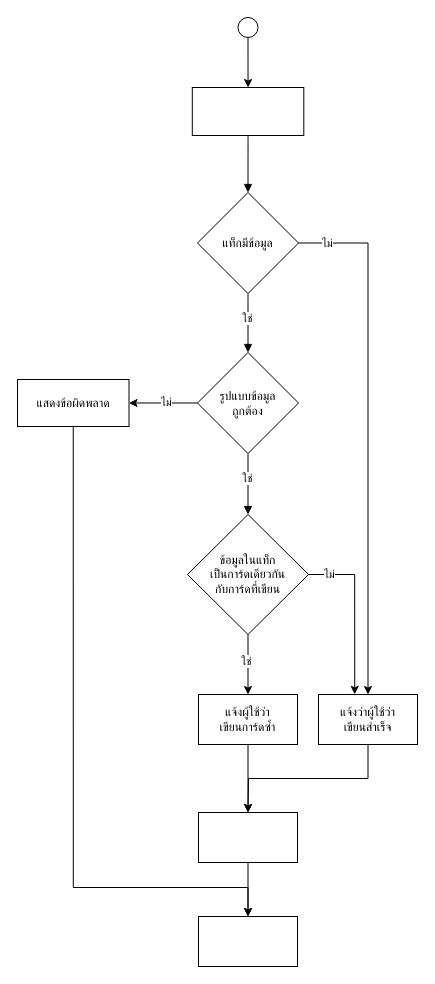
This 435x984 diagram has some shape labels left out. The centre of each missing label's shape, as x and y in pixels:
"รอรับสัญญาณ NFC" goes at (x=247, y=111).
"สิ้นสุด" goes at (x=248, y=941).
"เขียนข้อมูล การ์ดลงในแท็ก" goes at (x=248, y=837).
